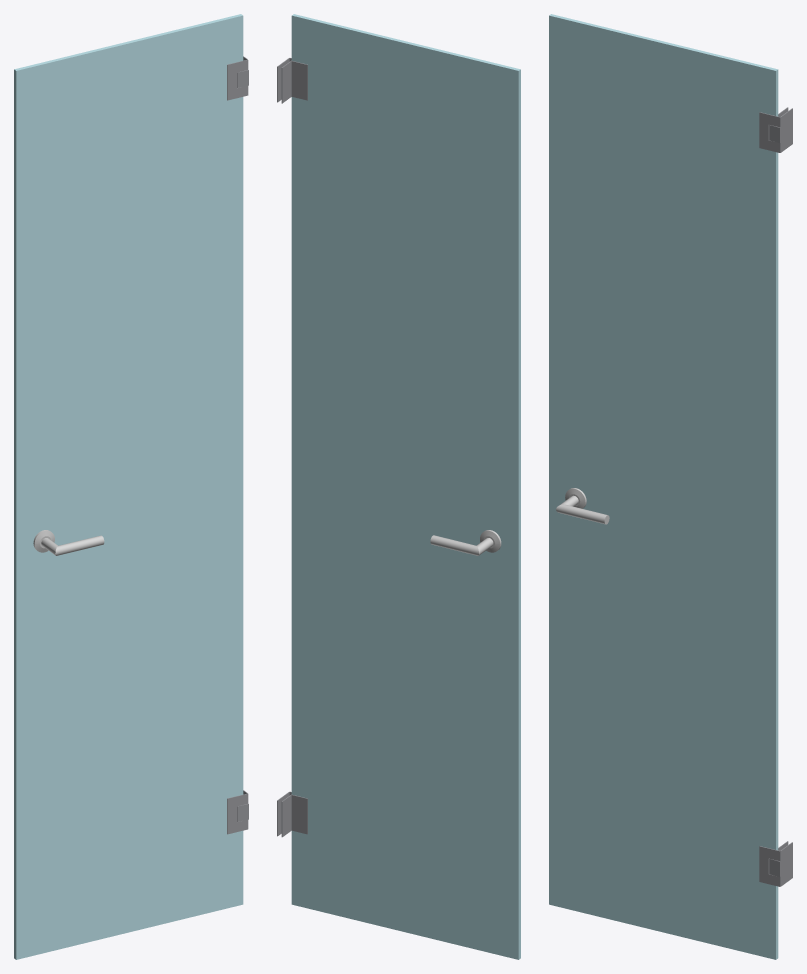
Rendered from Tuere_Dusche.glb.
3 renders of one model, left to right at view 1: azimuth 30°, elevation 25°; view 2: azimuth 150°, elevation 25°; view 3: azimuth 330°, elevation 25°, orthographic.
Visible parts, largest first — view 1: Mesh1 Component_275 G_26_Dusche_T_re_dwg1 Model, Mesh13 Component_287 G_26_Dusche_T_re_dwg1 Model, Mesh2 Component_276 G_26_Dusche_T_re_dwg1 Model, Mesh7 Component_281 G_26_Dusche_T_re_dwg1 Model; view 2: Mesh1 Component_275 G_26_Dusche_T_re_dwg1 Model, Mesh12 Component_286 G_26_Dusche_T_re_dwg1 Model, Mesh10 Component_284 G_26_Dusche_T_re_dwg1 Model, Mesh5 Component_279 G_26_Dusche_T_re_dwg1 Model; view 3: Mesh1 Component_275 G_26_Dusche_T_re_dwg1 Model, Mesh13 Component_287 G_26_Dusche_T_re_dwg1 Model, Mesh2 Component_276 G_26_Dusche_T_re_dwg1 Model, Mesh7 Component_281 G_26_Dusche_T_re_dwg1 Model.
Boxes of the visible parts, <box> form: Mesh1 Component_275 G_26_Dusche_T_re_dwg1 Model: <box>14,14,243,959</box>; Mesh13 Component_287 G_26_Dusche_T_re_dwg1 Model: <box>33,530,104,555</box>; Mesh2 Component_276 G_26_Dusche_T_re_dwg1 Model: <box>227,59,248,100</box>; Mesh7 Component_281 G_26_Dusche_T_re_dwg1 Model: <box>227,793,248,834</box>; Mesh1 Component_275 G_26_Dusche_T_re_dwg1 Model: <box>291,14,520,959</box>; Mesh12 Component_286 G_26_Dusche_T_re_dwg1 Model: <box>430,530,501,555</box>; Mesh10 Component_284 G_26_Dusche_T_re_dwg1 Model: <box>291,794,307,834</box>; Mesh5 Component_279 G_26_Dusche_T_re_dwg1 Model: <box>291,61,307,100</box>; Mesh1 Component_275 G_26_Dusche_T_re_dwg1 Model: <box>549,14,778,959</box>; Mesh13 Component_287 G_26_Dusche_T_re_dwg1 Model: <box>556,488,609,524</box>; Mesh2 Component_276 G_26_Dusche_T_re_dwg1 Model: <box>759,112,780,152</box>; Mesh7 Component_281 G_26_Dusche_T_re_dwg1 Model: <box>759,846,780,886</box>.
Size of the model in its own units: 61.3 by 225 by 15.86.
